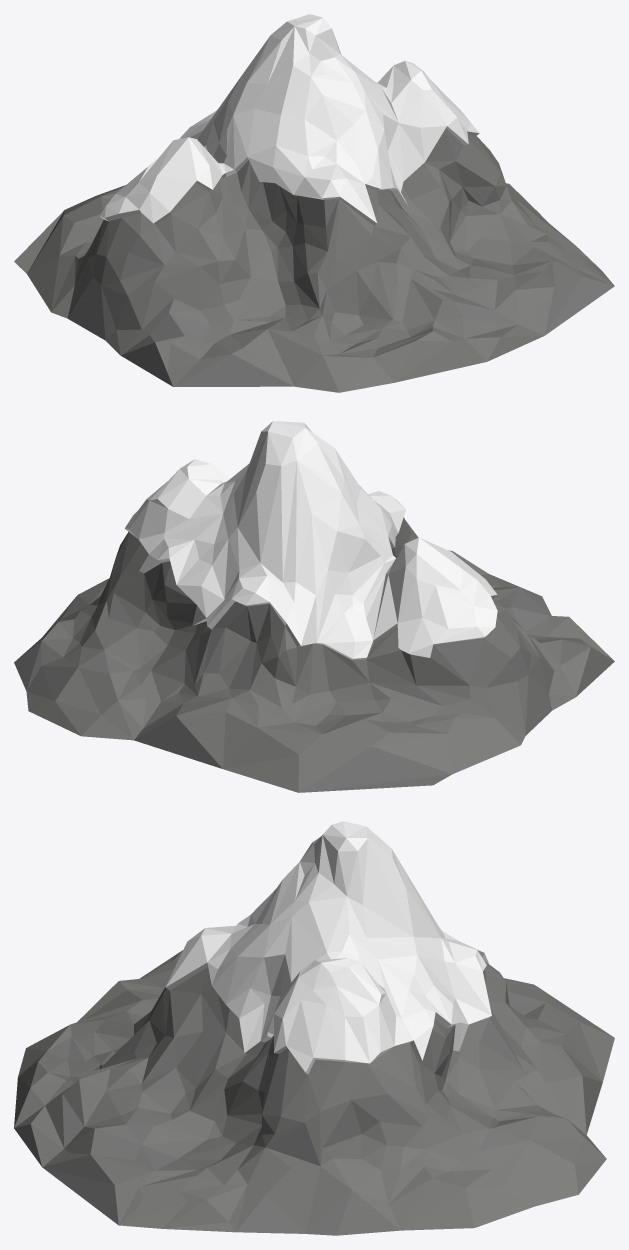
The model's file is bg-snow-c.glb.
3 views of the same model, one above another, from view 1: azimuth 30°, elevation 25°; view 2: azimuth 150°, elevation 25°; view 3: azimuth 270°, elevation 25° (orthographic). The views are drawn at different scales.
Parts seen in each view (by area): view 1: SM_Generic_Mountains_Snow_01; view 2: SM_Generic_Mountains_Snow_01; view 3: SM_Generic_Mountains_Snow_01.
Boxes of the visible parts, x1=… form: SM_Generic_Mountains_Snow_01: x1=14, y1=14, x2=614, y2=392; SM_Generic_Mountains_Snow_01: x1=14, y1=421, x2=614, y2=792; SM_Generic_Mountains_Snow_01: x1=14, y1=821, x2=614, y2=1235.
Bounding box in the file's own units: 20.77 × 10.31 × 20.1.
1 material, 1 textured.
